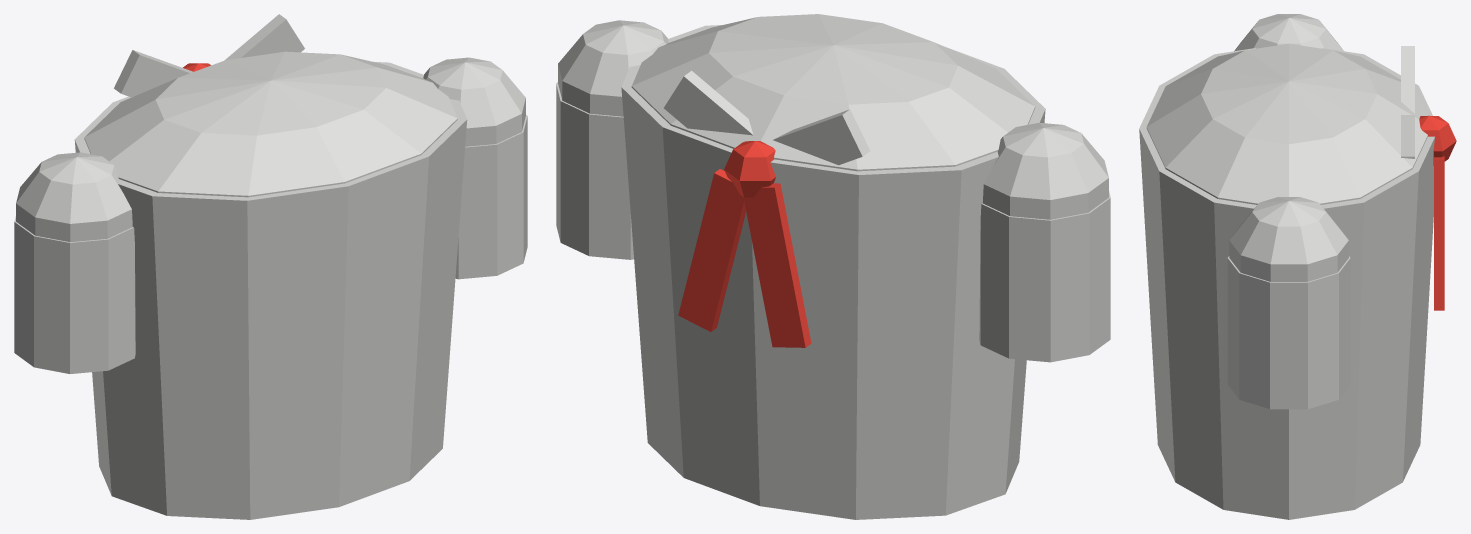
Rendered from jacket_pioneer.glb.
3 renders of one model, left to right at view 1: azimuth 30°, elevation 25°; view 2: azimuth 150°, elevation 25°; view 3: azimuth 270°, elevation 25°, orthographic. The views are drawn at different scales.
Visible parts, largest first — view 1: Torso, ArmL, ArmR; view 2: Torso, ArmL, ArmR; view 3: Torso, ArmR, ArmL.
Boxes of the visible parts, box(x1,y1,x2,y2) form: Torso: box(74, 14, 467, 519); ArmL: box(14, 152, 135, 373); ArmR: box(423, 57, 527, 279); Torso: box(621, 14, 1045, 519); ArmL: box(979, 122, 1110, 362); ArmR: box(556, 20, 668, 259); Torso: box(1139, 43, 1456, 519); ArmR: box(1227, 197, 1350, 409); ArmL: box(1234, 14, 1343, 51).
Size of the model in its own units: 0.7874 by 0.576 by 0.4546.
